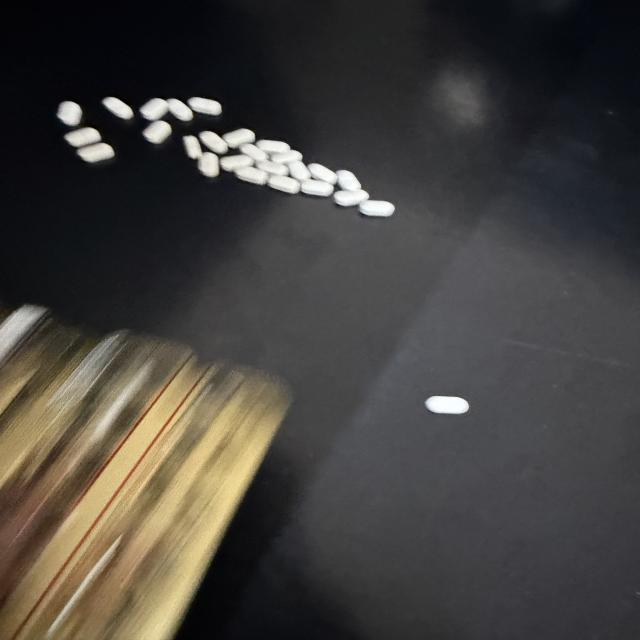pill: (425, 396, 469, 414), (102, 97, 134, 119), (64, 128, 101, 147), (77, 143, 114, 162), (143, 120, 171, 144), (199, 131, 228, 154), (139, 98, 169, 120), (57, 101, 82, 126), (188, 97, 222, 115), (223, 129, 255, 148), (167, 98, 193, 121), (308, 164, 337, 184), (235, 167, 268, 184), (359, 200, 394, 216), (269, 175, 300, 193), (334, 190, 368, 206), (220, 155, 253, 171), (198, 152, 219, 177), (301, 180, 333, 196), (288, 160, 311, 182), (336, 170, 361, 190), (239, 144, 268, 161), (256, 140, 290, 154), (183, 136, 202, 159), (257, 161, 288, 175), (272, 150, 302, 164)
